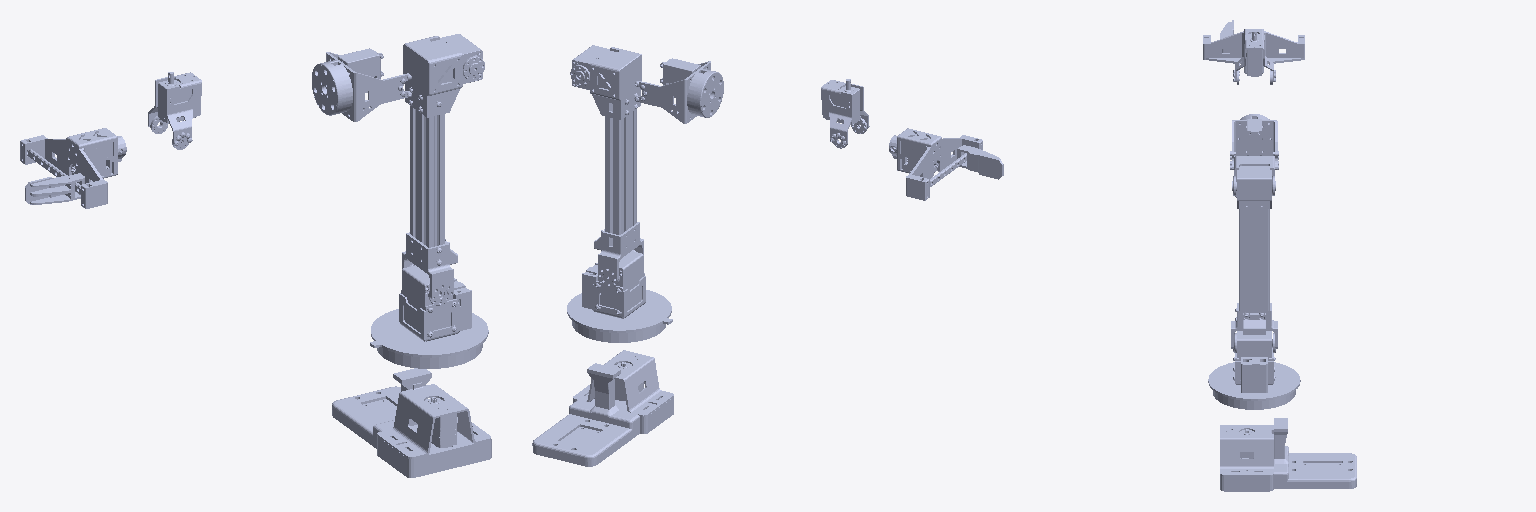
URDF robot description (cello_description):
<?xml version="1.0" encoding="utf-8"?>
<!-- This URDF was automatically created by SolidWorks to URDF Exporter! Originally created by [author] ([email redacted]) 
     Commit Version: 1.6.0-4-g7f85cfe  Build Version: 1.6.7995.38578
     For more information, please see http://wiki.ros.org/sw_urdf_exporter -->
<robot
  name="cello_description">
      <!-- 添加虚拟根链接 -->
  <link name="world"/>

  <!-- 添加固定关节 -->
  <joint name="world_to_base" type="fixed">
    <parent link="world"/>
    <child link="base_link"/>
    <origin xyz="0 0 0" rpy="0 0 0"/>
  </joint>
  <link
    name="base_link">
    <inertial>
      <origin
        xyz="0.0185665958431925 0.0237703344115316 0.000316871998479529"
        rpy="0 0 0" />
      <mass
        value="0.860146103961966" />
      <inertia
        ixx="0.00164232799348848"
        ixy="-6.71840190453391E-06"
        ixz="1.59502026038028E-06"
        iyy="0.00312628775863791"
        iyz="-2.52071111486874E-06"
        izz="0.00170608787375079" />
    </inertial>
    <visual>
      <origin
        xyz="0 0 0"
        rpy="0 0 0" />
      <geometry>
        <mesh
          filename="package://cello_description/meshes/base_link.STL" />
      </geometry>
      <material
        name="">
        <color
          rgba="0.79216 0.81961 0.93333 1" />
      </material>
    </visual>
    <collision>
      <origin
        xyz="0 0 0"
        rpy="0 0 0" />
      <geometry>
        <mesh
          filename="package://cello_description/meshes/base_link.STL" />
      </geometry>
    </collision>
  </link>
  <link
    name="link1">
    <inertial>
      <origin
        xyz="-0.00293659515445004 -0.000166267252386236 0.030485264993778"
        rpy="0 0 0" />
      <mass
        value="0.211492633912495" />
      <inertia
        ixx="0.00014371720093856"
        ixy="3.66663978162206E-08"
        ixz="-1.62979839621169E-07"
        iyy="0.000130150440405187"
        iyz="2.18212503305571E-07"
        izz="0.00019218981060271" />
    </inertial>
    <visual>
      <origin
        xyz="0 0 0"
        rpy="0 0 0" />
      <geometry>
        <mesh
          filename="package://cello_description/meshes/link1.STL" />
      </geometry>
      <material
        name="">
        <color
          rgba="0.792156862745098 0.819607843137255 0.933333333333333 1" />
      </material>
    </visual>
    <collision>
      <origin
        xyz="0 0 0"
        rpy="0 0 0" />
      <geometry>
        <mesh
          filename="package://cello_description/meshes/link1.STL" />
      </geometry>
    </collision>
  </link>
  <joint
    name="joint1"
    type="revolute">
    <origin
      xyz="0 0 0.0665"
      rpy="0 0 3.1416" />
    <parent
      link="base_link" />
    <child
      link="link1" />
    <axis
      xyz="0 0 -1" />
    <limit
      lower="-2.27"
      upper="2.27"
      effort="100"
      velocity="1" />
  </joint>
  <link
    name="link2">
    <inertial>
      <origin
        xyz="0.1885115364536 0.0113251781305915 1.63404807941194E-05"
        rpy="0 0 0" />
      <mass
        value="0.227311190417969" />
      <inertia
        ixx="9.223855532802E-05"
        ixy="3.05844204635486E-07"
        ixz="-3.39116277003053E-08"
        iyy="0.000275614516047104"
        iyz="1.47692178724399E-07"
        izz="0.000266469770927709" />
    </inertial>
    <visual>
      <origin
        xyz="0 0 0"
        rpy="0 0 0" />
      <geometry>
        <mesh
          filename="package://cello_description/meshes/link2.STL" />
      </geometry>
      <material
        name="">
        <color
          rgba="0.792156862745098 0.819607843137255 0.933333333333333 1" />
      </material>
    </visual>
    <collision>
      <origin
        xyz="0 0 0"
        rpy="0 0 0" />
      <geometry>
        <mesh
          filename="package://cello_description/meshes/link2.STL" />
      </geometry>
    </collision>
  </link>
  <joint
    name="joint2"
    type="revolute">
    <origin
      xyz="0.0022 0 0.0638"
      rpy="-1.5708 -1.5708 0" />
    <parent
      link="link1" />
    <child
      link="link2" />
    <axis
      xyz="0 0 1" />
    <limit
      lower="-1.57"
      upper="1.57"
      effort="100"
      velocity="1" />
  </joint>
  <link
    name="link3">
    <inertial>
      <origin
        xyz="0.0611057027698938 0.00285373563465841 0.000308179387542533"
        rpy="0 0 0" />
      <mass
        value="0.0623016674269844" />
      <inertia
        ixx="3.27641771814371E-05"
        ixy="-1.36991125224235E-07"
        ixz="-5.03629347281208E-11"
        iyy="2.8138233772221E-05"
        iyz="-2.07089691754385E-12"
        izz="2.00711122359931E-05" />
    </inertial>
    <visual>
      <origin
        xyz="0 0 0"
        rpy="0 0 0" />
      <geometry>
        <mesh
          filename="package://cello_description/meshes/link3.STL" />
      </geometry>
      <material
        name="">
        <color
          rgba="0.792156862745098 0.819607843137255 0.933333333333333 1" />
      </material>
    </visual>
    <collision>
      <origin
        xyz="0 0 0"
        rpy="0 0 0" />
      <geometry>
        <mesh
          filename="package://cello_description/meshes/link3.STL" />
      </geometry>
    </collision>
  </link>
  <joint
    name="joint3"
    type="revolute">
    <origin
      xyz="0.2476 0.0396 0"
      rpy="0 0 1.5708" />
    <parent
      link="link2" />
    <child
      link="link3" />
    <axis
      xyz="0 0 1" />
    <limit
      lower="-1.57"
      upper="1.57"
      effort="100"
      velocity="1" />
  </joint>
  <link
    name="link4">
    <inertial>
      <origin
        xyz="0.000729594597532746 -0.000125926768648373 -0.103946810426539"
        rpy="0 0 0" />
      <mass
        value="0.0850055961870255" />
      <inertia
        ixx="0.000102625748865945"
        ixy="3.3616752747751E-08"
        ixz="1.60143434133556E-07"
        iyy="9.28495819429823E-05"
        iyz="9.03345793296242E-09"
        izz="1.83288445936644E-05" />
    </inertial>
    <visual>
      <origin
        xyz="0 0 0"
        rpy="0 0 0" />
      <geometry>
        <mesh
          filename="package://cello_description/meshes/link4.STL" />
      </geometry>
      <material
        name="">
        <color
          rgba="0.792156862745098 0.819607843137255 0.933333333333333 1" />
      </material>
    </visual>
    <collision>
      <origin
        xyz="0 0 0"
        rpy="0 0 0" />
      <geometry>
        <mesh
          filename="package://cello_description/meshes/link4.STL" />
      </geometry>
    </collision>
  </link>
  <joint
    name="joint4"
    type="revolute">
    <origin
      xyz="0.26712 0.00308 0"
      rpy="-1.5708 0 -1.5708" />
    <parent
      link="link3" />
    <child
      link="link4" />
    <axis
      xyz="0 0 -1" />
    <limit
      lower="-2.27"
      upper="2.27"
      effort="100"
      velocity="1" />
  </joint>
  <link
    name="link5">
    <inertial>
      <origin
        xyz="0.0335375994440514 0.00853304389691528 0.000381142452559995"
        rpy="0 0 0" />
      <mass
        value="0.0163654245254692" />
      <inertia
        ixx="4.68510252192476E-06"
        ixy="-6.95561752431801E-07"
        ixz="-5.08961649625169E-11"
        iyy="4.52254377075873E-06"
        iyz="-2.59810725028352E-13"
        izz="4.70106807865181E-06" />
    </inertial>
    <visual>
      <origin
        xyz="0 0 0"
        rpy="0 0 0" />
      <geometry>
        <mesh
          filename="package://cello_description/meshes/link5.STL" />
      </geometry>
      <material
        name="">
        <color
          rgba="0.792156862745098 0.819607843137255 0.933333333333333 1" />
      </material>
    </visual>
    <collision>
      <origin
        xyz="0 0 0"
        rpy="0 0 0" />
      <geometry>
        <mesh
          filename="package://cello_description/meshes/link5.STL" />
      </geometry>
    </collision>
  </link>
  <joint
    name="joint5"
    type="revolute">
    <origin
      xyz="0 0 0"
      rpy="1.5708 -1.5708 0" />
    <parent
      link="link4" />
    <child
      link="link5" />
    <axis
      xyz="0 0 1" />
    <limit
      lower="-1.57"
      upper="1.57"
      effort="100"
      velocity="1" />
  </joint>
  <link
    name="link6">
    <inertial>
      <origin
        xyz="0.00392619665426891 0.000329475027204002 -0.0656755875584046"
        rpy="0 0 0" />
      <mass
        value="0.0539231941559604" />
      <inertia
        ixx="8.14363187419384E-05"
        ixy="5.11378434619829E-08"
        ixz="-3.7560749893412E-06"
        iyy="2.73524846835263E-05"
        iyz="5.38863543981379E-08"
        izz="7.03066761474059E-05" />
    </inertial>
    <visual>
      <origin
        xyz="0 0 0"
        rpy="0 0 0" />
      <geometry>
        <mesh
          filename="package://cello_description/meshes/link6.STL" />
      </geometry>
      <material
        name="">
        <color
          rgba="0.792156862745098 0.819607843137255 0.933333333333333 1" />
      </material>
    </visual>
    <collision>
      <origin
        xyz="0 0 0"
        rpy="0 0 0" />
      <geometry>
        <mesh
          filename="package://cello_description/meshes/link6.STL" />
      </geometry>
    </collision>
  </link>
  <joint
    name="joint6"
    type="revolute">
    <origin
      xyz="0.17066 0.0048225 0"
      rpy="1.5708 0 1.5708" />
    <parent
      link="link5" />
    <child
      link="link6" />
    <axis
      xyz="0 0 -1" />
    <limit
      lower="-2.27"
      upper="2.27"
      effort="100"
      velocity="1" />
  </joint>
  <link
    name="link7_left">
    <inertial>
      <origin
        xyz="-4.33087985039493E-05 -0.021028880533585 -0.0312030540403159"
        rpy="0 0 0" />
      <mass
        value="0.0118967398398553" />
      <inertia
        ixx="1.53554000943577E-06"
        ixy="6.15488946515542E-11"
        ixz="1.01866287381271E-22"
        iyy="8.58356634133819E-07"
        iyz="-2.09480277751459E-07"
        izz="1.93904913603243E-06" />
    </inertial>
    <visual>
      <origin
        xyz="0 0 0"
        rpy="0 0 0" />
      <geometry>
        <mesh
          filename="package://cello_description/meshes/link7_left.STL" />
      </geometry>
      <material
        name="">
        <color
          rgba="0.792156862745098 0.819607843137255 0.933333333333333 1" />
      </material>
    </visual>
    <collision>
      <origin
        xyz="0 0 0"
        rpy="0 0 0" />
      <geometry>
        <mesh
          filename="package://cello_description/meshes/link7_left.STL" />
      </geometry>
    </collision>
  </link>
  <joint
    name="joint7_left"
    type="prismatic">
    <origin
      xyz="0.01019 0 0"
      rpy="1.5708 0 3.1416" />
    <parent
      link="link6" />
    <child
      link="link7_left" />
    <axis
      xyz="0 0 1" />
    <limit
      lower="-0.03"
      upper="0"
      effort="5"
      velocity="3.14" />
  </joint>
  <link
    name="link7_right">
    <inertial>
      <origin
        xyz="4.33087985036718E-05 -0.021028880533585 0.032103054040318"
        rpy="0 0 0" />
      <mass
        value="0.0118967398398553" />
      <inertia
        ixx="1.53554000943577E-06"
        ixy="-6.15488946521698E-11"
        ixz="1.10034142934896E-22"
        iyy="8.5835663413382E-07"
        iyz="2.09480277751459E-07"
        izz="1.93904913603243E-06" />
    </inertial>
    <visual>
      <origin
        xyz="0 0 0"
        rpy="0 0 0" />
      <geometry>
        <mesh
          filename="package://cello_description/meshes/link7_right.STL" />
      </geometry>
      <material
        name="">
        <color
          rgba="0.792156862745098 0.819607843137255 0.933333333333333 1" />
      </material>
    </visual>
    <collision>
      <origin
        xyz="0 0 0"
        rpy="0 0 0" />
      <geometry>
        <mesh
          filename="package://cello_description/meshes/link7_right.STL" />
      </geometry>
    </collision>
  </link>
  <joint
    name="joint7_right"
    type="prismatic">
    <origin
      xyz="0.01019 0 0"
      rpy="1.5708 0 3.1416" />
    <parent
      link="link6" />
    <child
      link="link7_right" />
    <axis
      xyz="0 0 -1" />
    <limit
      lower="-3.14"
      upper="3.14"
      effort="5"
      velocity="3.14" />
    <mimic joint="joint7_left" />
  </joint>
</robot>

--- Facts derived from the render (not from the file) ---
Views: 3 orthographic renders of the robot side by side, from view 1: azimuth 30°, elevation 25°; view 2: azimuth 150°, elevation 25°; view 3: azimuth 270°, elevation 25°.
Model cello_description with 10 links and 9 joints (6 revolute, 2 prismatic, 1 fixed), rooted at world, posed all joints at 0.
Links seen in each view (by area): view 1: link2, base_link, link1, link3, link6, link5, link7_left; view 2: base_link, link2, link1, link3, link6, link5, link7_left; view 3: base_link, link2, link1, link6, link3, link5.
Boxes of the visible links, x1,y1,x2,y2 form: link2: (402,34,484,299); base_link: (332,368,491,477); link1: (370,264,488,368); link3: (312,48,411,121); link6: (20,128,126,208); link5: (148,72,201,149); link7_left: (25,173,84,204); base_link: (532,350,673,466); link2: (570,45,643,281); link1: (567,250,672,342); link3: (635,58,723,123); link6: (889,128,982,200); link5: (821,79,869,148); link7_left: (957,145,1003,179); base_link: (1220,418,1356,491); link2: (1231,156,1277,348); link1: (1208,331,1300,409); link6: (1203,29,1304,73); link3: (1230,114,1278,169); link5: (1233,31,1275,84).
Bounding box of the posed robot: 0.5586 × 0.2034 × 0.5046 m (x, y, z).
Meshes: 9 distinct files referenced, 7 mesh visuals loaded (7 binary STL); not drawn: 2 (reference not matched to a file when rendering).
